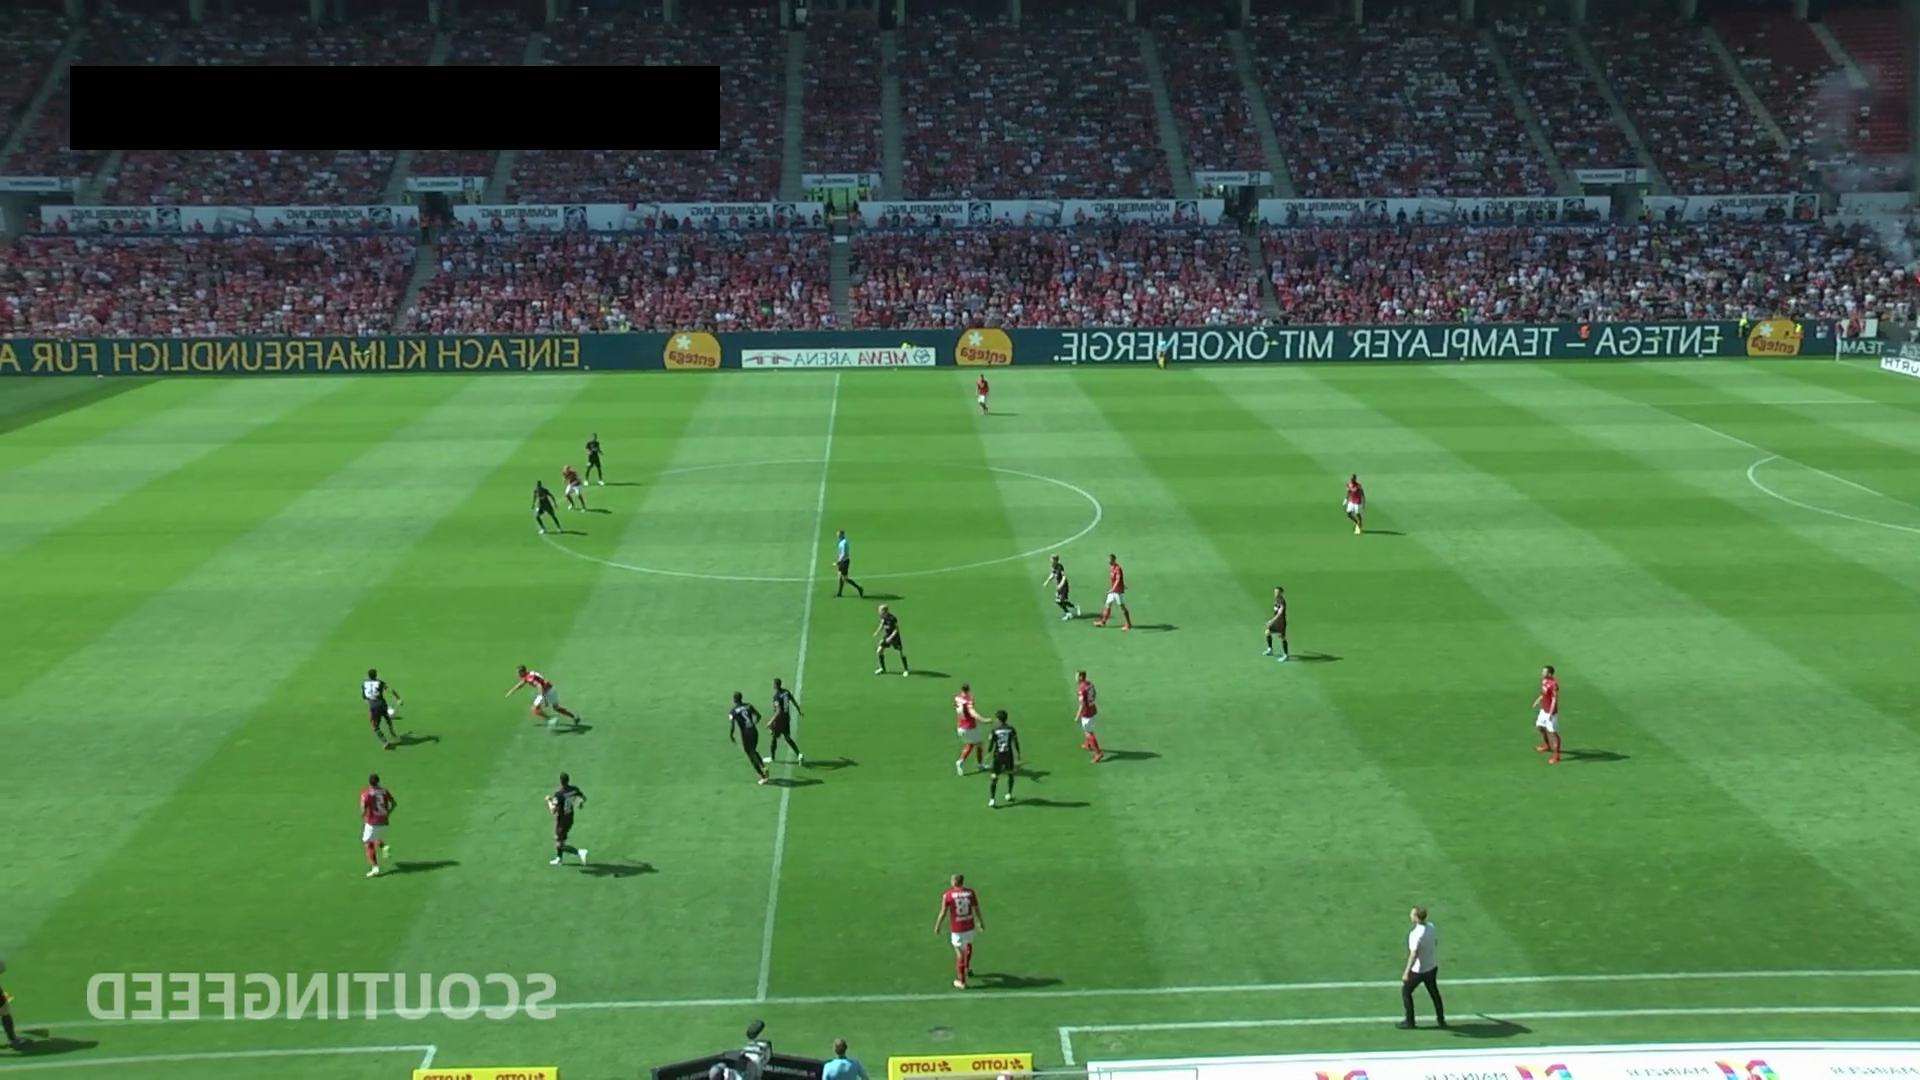ball: (383, 705, 398, 719)
player: (934, 872, 986, 990), (504, 664, 581, 731), (359, 772, 397, 877), (546, 771, 588, 866), (728, 690, 770, 784), (361, 667, 404, 753), (985, 709, 1022, 808), (1531, 664, 1566, 767), (953, 682, 990, 777), (767, 677, 805, 764), (1093, 553, 1132, 630), (872, 603, 909, 677), (1074, 669, 1103, 763), (1041, 555, 1079, 621), (1262, 585, 1289, 661), (532, 480, 563, 534), (1343, 473, 1365, 534), (561, 465, 588, 512), (584, 432, 606, 486), (976, 373, 990, 415)
referee: (833, 529, 865, 598), (1155, 335, 1168, 370)
